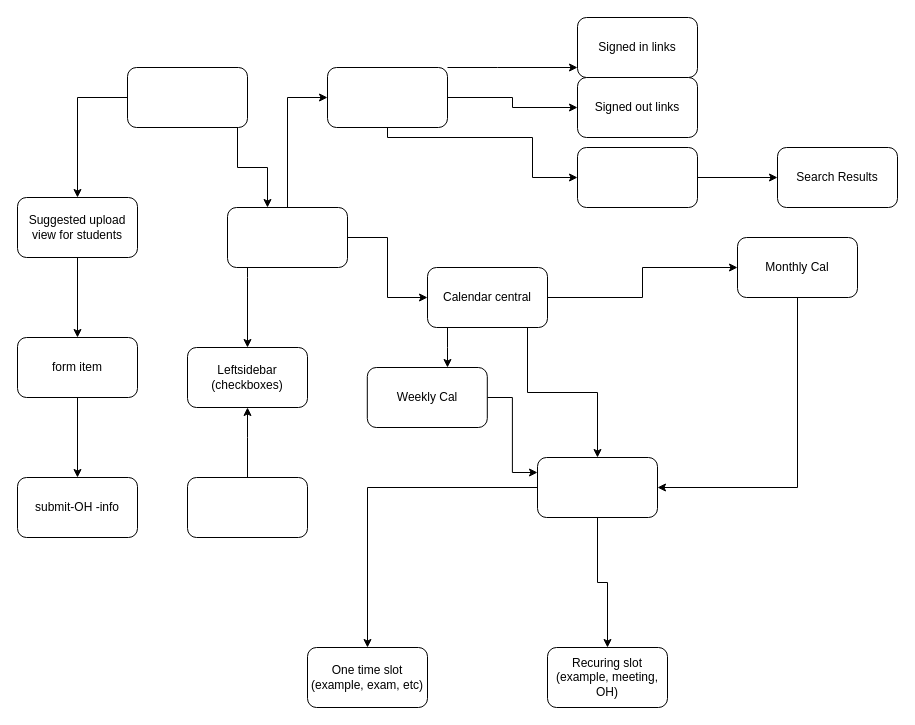
Some shapes in this 915 by 725 pixel diagram are drawn without their labels. The shapes that lost their labels are listed below. From the top down, each one's centre as x and y in pixels, then its label:
[187,97]: App(root)
[387,97]: Header-bar
[637,177]: Search bar/(add class) Component
[287,237]: Main Body
[247,507]: (slot/course manager)
[597,487]: Course
